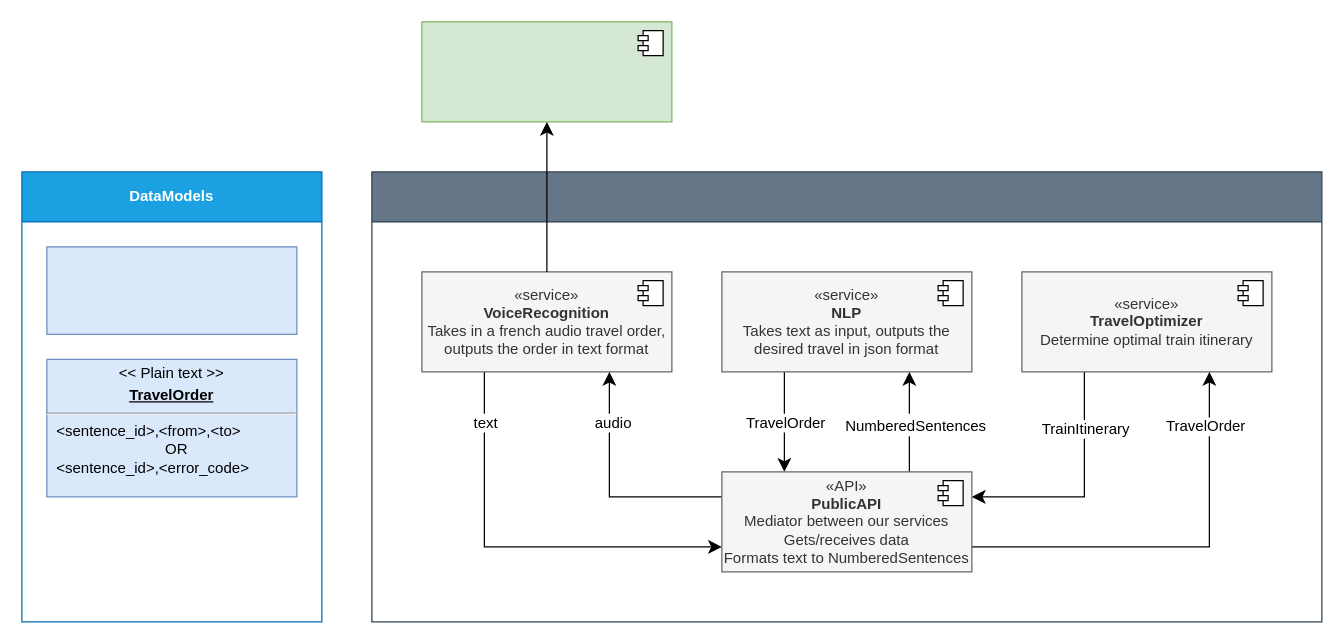
The diagram is 1344 pixels wide and 644 high, and some of its shapes have lost their labels. The centre of each missing label's shape, as x and y in pixels:
"<< Plain text >> NumberedSentence <sentence_id>,<sentence>" belongs at point (171, 290).
"TravelResolver" belongs at point (846, 396).
"«External API» Gcloud Speech-to-text / AWS / ... Takes in a audio, outputs text" belongs at point (546, 71).
